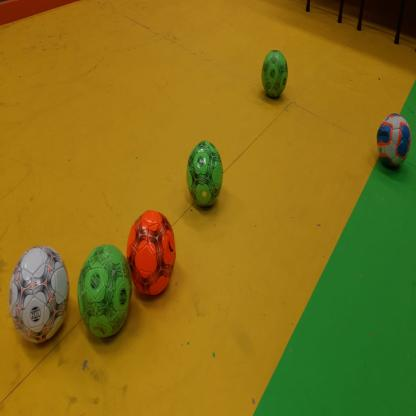ball: (9, 246, 70, 345), (78, 245, 132, 340), (127, 210, 177, 299), (187, 141, 223, 208), (377, 114, 412, 170), (261, 50, 288, 100)
